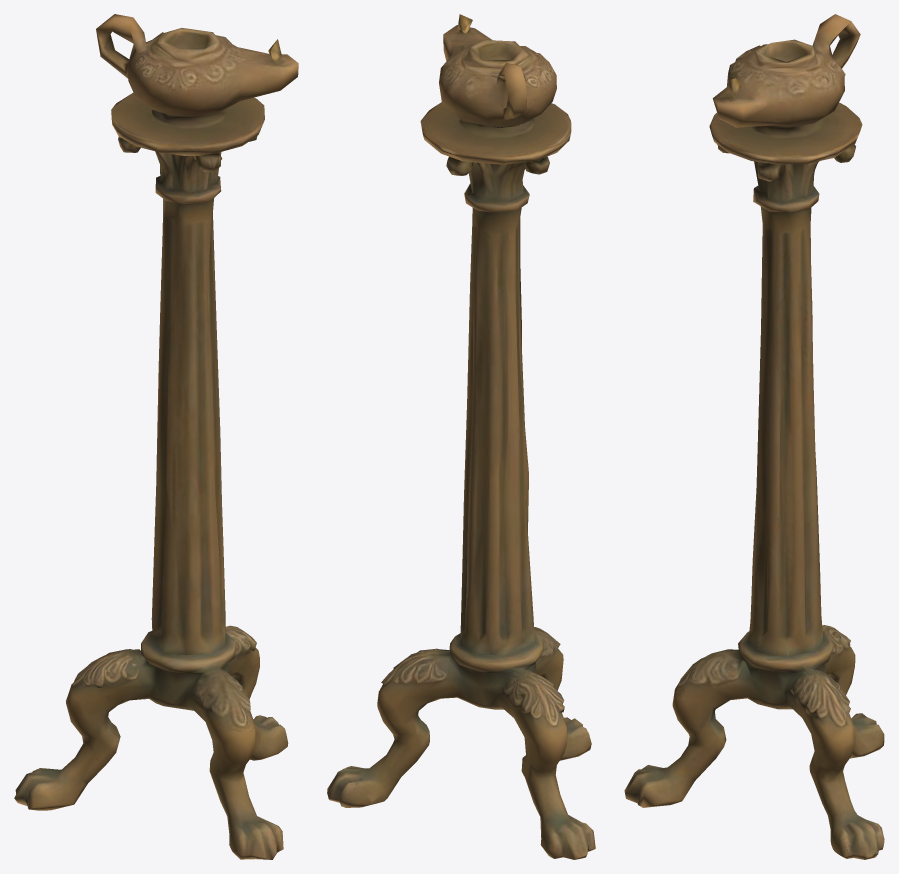
The model's file is lampstand.glb.
3 views of the same model, side by side, from view 1: azimuth 30°, elevation 25°; view 2: azimuth 150°, elevation 25°; view 3: azimuth 270°, elevation 25° (orthographic). The views are drawn at different scales.
Parts seen in each view (by area): view 1: tripo_node_4df25830-31b7-48bd-876e-03ecdd406800; view 2: tripo_node_4df25830-31b7-48bd-876e-03ecdd406800; view 3: tripo_node_4df25830-31b7-48bd-876e-03ecdd406800.
Boxes of the visible parts, x1=… form: tripo_node_4df25830-31b7-48bd-876e-03ecdd406800: x1=14, y1=14, x2=298, y2=859; tripo_node_4df25830-31b7-48bd-876e-03ecdd406800: x1=327, y1=14, x2=595, y2=859; tripo_node_4df25830-31b7-48bd-876e-03ecdd406800: x1=624, y1=14, x2=884, y2=859.
Size of the model in its own units: 0.3513 by 0.9778 by 0.3032.
Materials: 1 (1 with a texture image).
